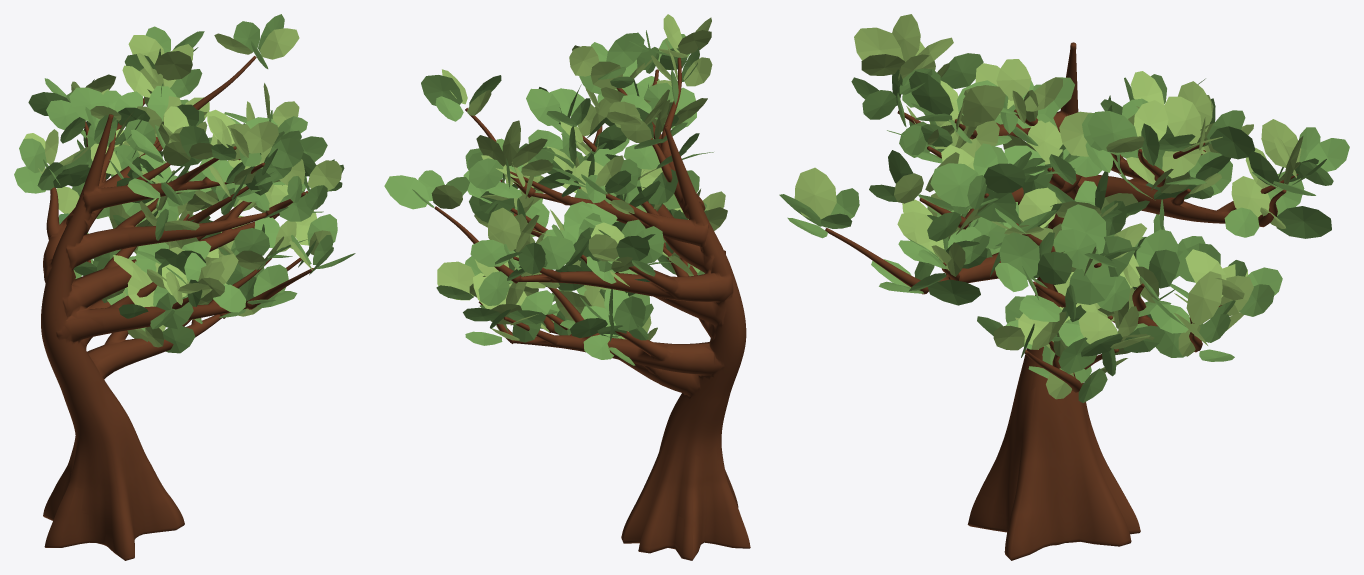
The model's file is Tree_Wind_Swept_LOD1.fbx.
3 renders of one model, left to right at view 1: azimuth 30°, elevation 25°; view 2: azimuth 150°, elevation 25°; view 3: azimuth 270°, elevation 25°, orthographic. The views are drawn at different scales.
Visible parts, largest first — view 1: Tree_Wind_Swept_Foliage_LOD1_FBX_Triangulated, Tree_Wind_Swept_Bark_LOD1_FBX_Triangulated; view 2: Tree_Wind_Swept_Foliage_LOD1_FBX_Triangulated, Tree_Wind_Swept_Bark_LOD1_FBX_Triangulated; view 3: Tree_Wind_Swept_Foliage_LOD1_FBX_Triangulated, Tree_Wind_Swept_Bark_LOD1_FBX_Triangulated.
Boxes of the visible parts, x1=… form: Tree_Wind_Swept_Foliage_LOD1_FBX_Triangulated: x1=14, y1=14, x2=355, y2=353; Tree_Wind_Swept_Bark_LOD1_FBX_Triangulated: x1=41, y1=56, x2=313, y2=560; Tree_Wind_Swept_Foliage_LOD1_FBX_Triangulated: x1=384, y1=14, x2=727, y2=365; Tree_Wind_Swept_Bark_LOD1_FBX_Triangulated: x1=434, y1=57, x2=750, y2=560; Tree_Wind_Swept_Foliage_LOD1_FBX_Triangulated: x1=779, y1=14, x2=1349, y2=402; Tree_Wind_Swept_Bark_LOD1_FBX_Triangulated: x1=825, y1=42, x2=1298, y2=560.
Bounding box in the file's own units: 3.5 × 5.14 × 4.89.
